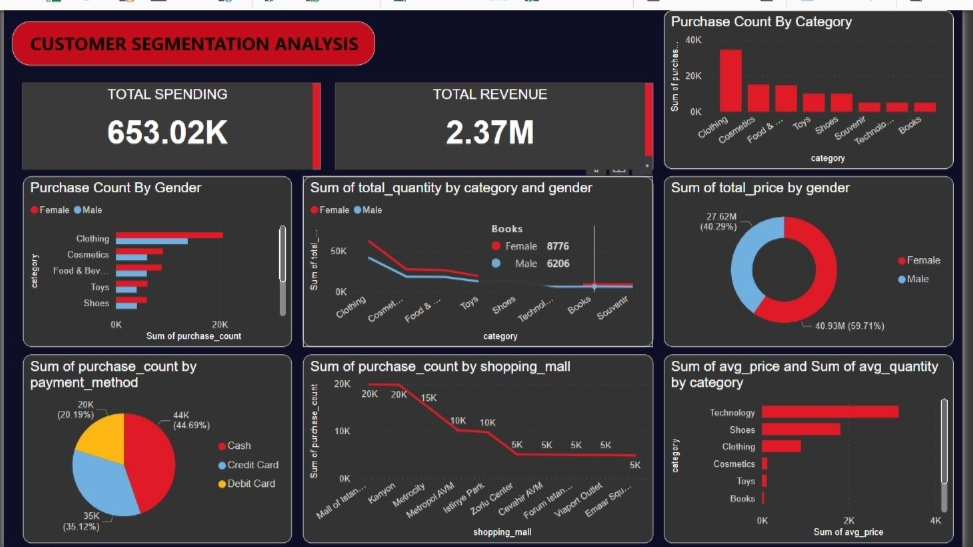

The dashboard page shown, as its layout file describes it:
{"tool":"powerbi","page":{"name":"Page 1","canvas":[1280,720],"ordinal":0},"visuals":[{"type":"textbox","box":[10.9,14.5,484.8,59.1],"z":0},{"type":"shape","box":[442.6,96.5,424.5,115.8],"z":1000},{"type":"shape","box":[24.1,96.5,399.2,115.8],"z":2000},{"type":"pieChart","fields":{"Category":["Q4(5)- Count The Number Of Purchase for Each Payment Method.payment_method"],"Y":["Sum(Q4(5)- Count The Number Of Purchase for Each Payment Method.purchase_count)"]},"box":[25.3,459.5,359.4,252.1],"z":3000},{"type":"lineChart","fields":{"Category":["Q5-  How Is  the Shopping Distribution According To Age.category"],"Y":["Sum(Q5-  How Is  the Shopping Distribution According To Age.total_quantity)"],"Series":["Q5-  How Is  the Shopping Distribution According To Age.gender"]},"box":[399.2,221.9,467.9,227.9],"z":4000},{"type":"clusteredColumnChart","title":"Purchase Count By Category","fields":{"Y":["Sum(Q4(5)- Count The Number Of Purchase for Each Payment Method.purchase_count)"],"Category":["Q4(5)- Count The Number Of Purchase for Each Payment Method.category"]},"box":[881.6,0,387.1,212.3],"z":5000},{"type":"donutChart","fields":{"Category":["Q3 Which Gender Generated More Revenue.gender"],"Y":["Sum(Q3 Which Gender Generated More Revenue.total_price)"]},"box":[881.6,221.9,387.1,227.9],"z":6000},{"type":"lineChart","fields":{"Category":["Q4(6)- Count The Number Of Purchase for Each Shopping Mall.shopping_mall"],"Y":["Sum(Q4(6)- Count The Number Of Purchase for Each Shopping Mall.purchase_count)"]},"box":[399.2,459.5,467.9,252.1],"z":7000},{"type":"barChart","fields":{"Category":["Q4(2)-Calculate the Avg Quantity And Price For Each Category.category"],"Y":["Sum(Q4(2)-Calculate the Avg Quantity And Price For Each Category.avg_price)"]},"box":[881.6,459.5,387.1,252.1],"z":8000},{"type":"textbox","box":[442.6,96.5,413.7,115.8],"z":9000},{"type":"textbox","box":[24.1,96.5,388.3,115.8],"z":10000},{"type":"clusteredBarChart","title":"Purchase Count  By Gender","fields":{"Category":["Q4(3)-Count The Number Of Purchase For Each Category.category"],"Series":["Q4(3)-Count The Number Of Purchase For Each Category.gender"],"Y":["Sum(Q4(3)-Count The Number Of Purchase For Each Category.purchase_count)"]},"box":[25.3,221.9,359.4,227.9],"z":11000}]}

Visuals, with their boxes in screenshot pixels (x1, y1, x2, y2), scaled from the page's 1280x720 canvas onto the 973x547 screenshot:
textbox: {"left": 8, "top": 11, "right": 377, "bottom": 56}
shape: {"left": 336, "top": 73, "right": 659, "bottom": 161}
shape: {"left": 18, "top": 73, "right": 322, "bottom": 161}
pieChart - Q4(5)- Count The Number Of Purchase for Each Payment Method.payment_method x Sum(Q4(5)- Count The Number Of Purchase for Each Payment Method.purchase_count): {"left": 19, "top": 349, "right": 292, "bottom": 541}
lineChart - Q5-  How Is  the Shopping Distribution According To Age.category x Sum(Q5-  How Is  the Shopping Distribution According To Age.total_quantity): {"left": 303, "top": 169, "right": 659, "bottom": 342}
"Purchase Count By Category" clusteredColumnChart: {"left": 670, "top": 0, "right": 964, "bottom": 161}
donutChart - Q3 Which Gender Generated More Revenue.gender x Sum(Q3 Which Gender Generated More Revenue.total_price): {"left": 670, "top": 169, "right": 964, "bottom": 342}
lineChart - Q4(6)- Count The Number Of Purchase for Each Shopping Mall.shopping_mall x Sum(Q4(6)- Count The Number Of Purchase for Each Shopping Mall.purchase_count): {"left": 303, "top": 349, "right": 659, "bottom": 541}
barChart - Q4(2)-Calculate the Avg Quantity And Price For Each Category.category x Sum(Q4(2)-Calculate the Avg Quantity And Price For Each Category.avg_price): {"left": 670, "top": 349, "right": 964, "bottom": 541}
textbox: {"left": 336, "top": 73, "right": 651, "bottom": 161}
textbox: {"left": 18, "top": 73, "right": 313, "bottom": 161}
"Purchase Count  By Gender" clusteredBarChart: {"left": 19, "top": 169, "right": 292, "bottom": 342}
